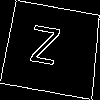Z: (26, 24, 62, 76)
